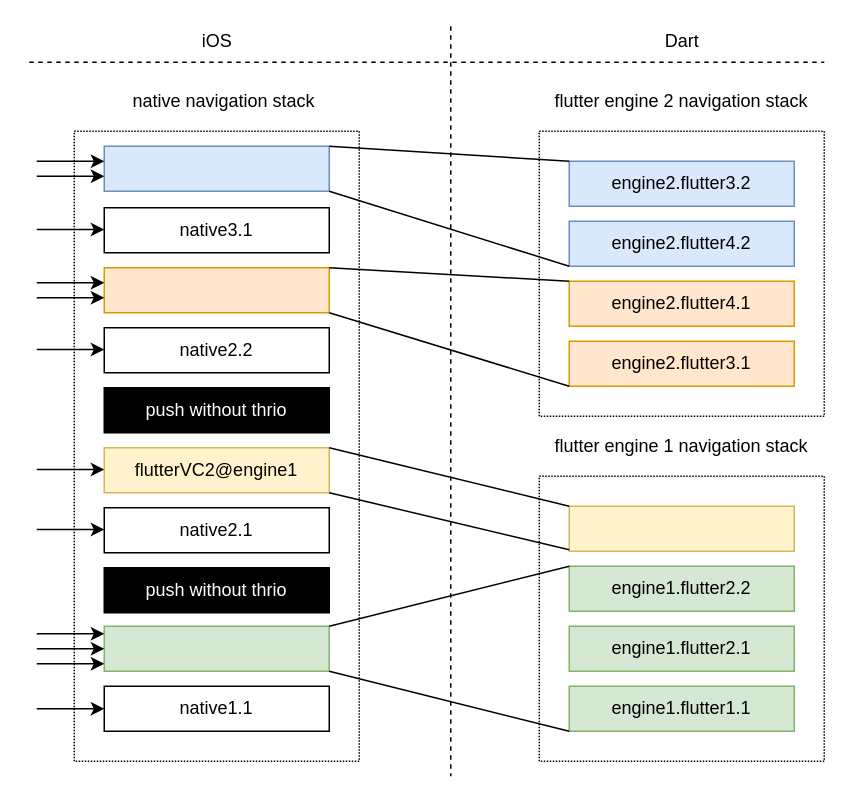
The diagram is 851 pixels wide and 803 high, and some of its shapes have lost their labels. Each missing label, with the centre of its shape:
engine1.flutter1.2: (x=681, y=528)
flutterVC1@engine1: (x=216, y=648)
flutterVC3@engine2: (x=216, y=289)
flutterVC4@engine2: (x=216, y=168)
